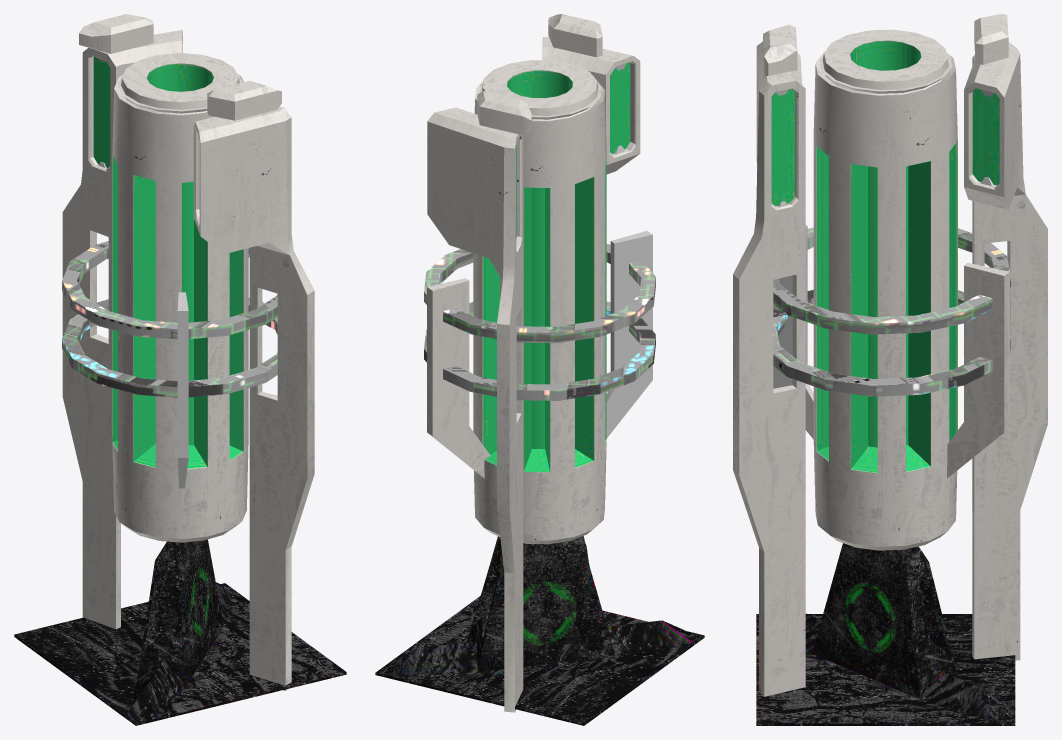
The picture shows the model from 3 angles, left to right: view 1: azimuth 30°, elevation 25°; view 2: azimuth 150°, elevation 25°; view 3: azimuth 270°, elevation 25°; orthographic projection. The views are drawn at different scales.
Visible parts, largest first — view 1: model_28.002; view 2: model_28.002; view 3: model_28.002.
Part boxes in pixels (bbox=[...]): model_28.002: bbox=[14, 14, 346, 725]; model_28.002: bbox=[375, 14, 704, 725]; model_28.002: bbox=[733, 14, 1047, 725].
Bounding box in the file's own units: 677 × 1855 × 823.
Materials: 1 (1 with a texture image).
